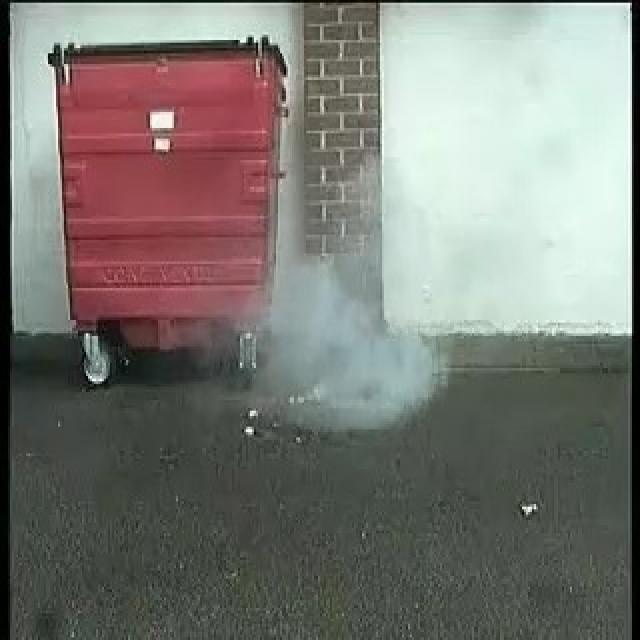smoke: (279, 221, 431, 431)
